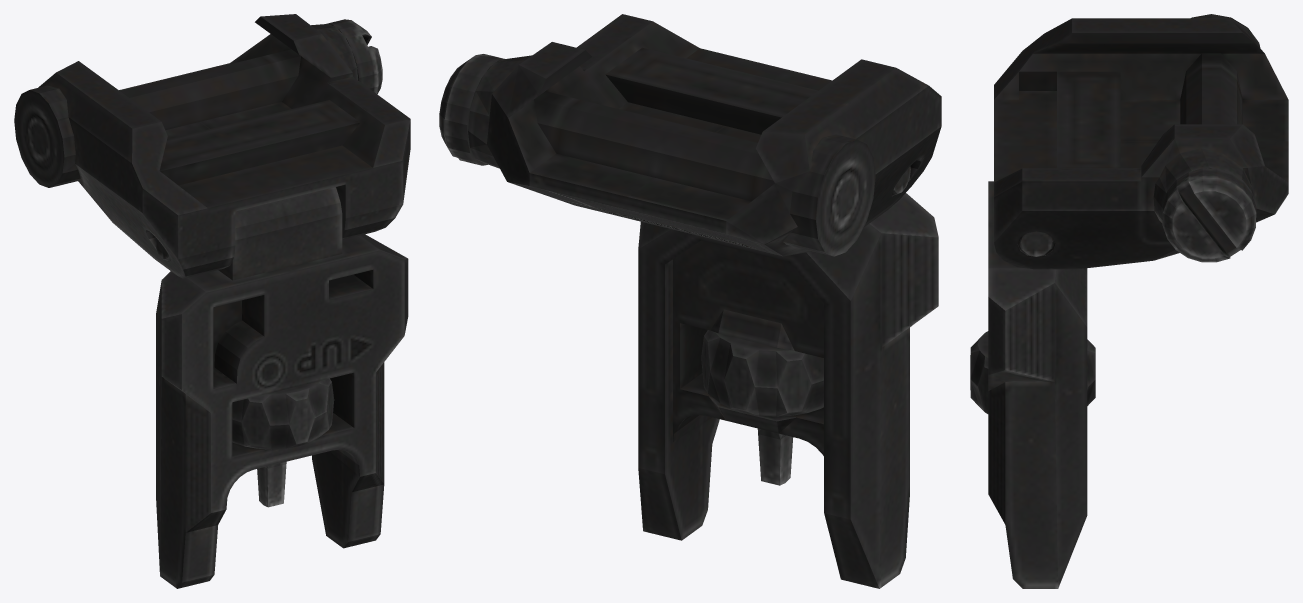
3 views of the same model, side by side, from view 1: azimuth 30°, elevation 25°; view 2: azimuth 150°, elevation 25°; view 3: azimuth 270°, elevation 25° (orthographic). The views are drawn at different scales.
Parts seen in each view (by area): view 1: TW_5fb6567747ce63734e3fa1dc_PZ_Import; view 2: TW_5fb6567747ce63734e3fa1dc_PZ_Import; view 3: TW_5fb6567747ce63734e3fa1dc_PZ_Import.
Part boxes in pixels (x1,y1,x2,y2): TW_5fb6567747ce63734e3fa1dc_PZ_Import: (14, 14, 410, 588); TW_5fb6567747ce63734e3fa1dc_PZ_Import: (439, 14, 941, 588); TW_5fb6567747ce63734e3fa1dc_PZ_Import: (970, 14, 1288, 588).
Bounding box in the file's own units: 0.0183 × 0.0151 × 0.0242.
Materials: 1 (1 with a texture image).
